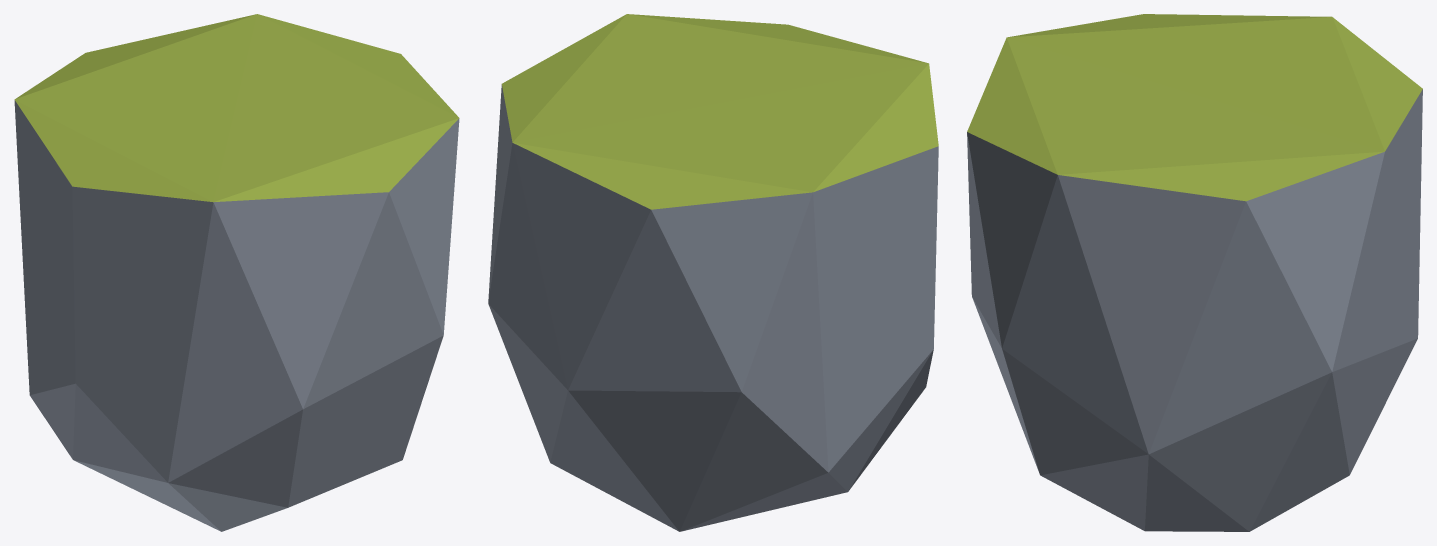
File: Single Platform3.fbx
3 renders of one model, left to right at view 1: azimuth 30°, elevation 25°; view 2: azimuth 150°, elevation 25°; view 3: azimuth 270°, elevation 25°, orthographic. The views are drawn at different scales.
Parts seen in each view (by area): view 1: Cube.004; view 2: Cube.004; view 3: Cube.004.
Part boxes in pixels (x1,y1,x2,y2): Cube.004: (14,14,459,531); Cube.004: (488,14,938,531); Cube.004: (967,14,1422,531).
Bounding box in the file's own units: 332 × 336 × 333.
